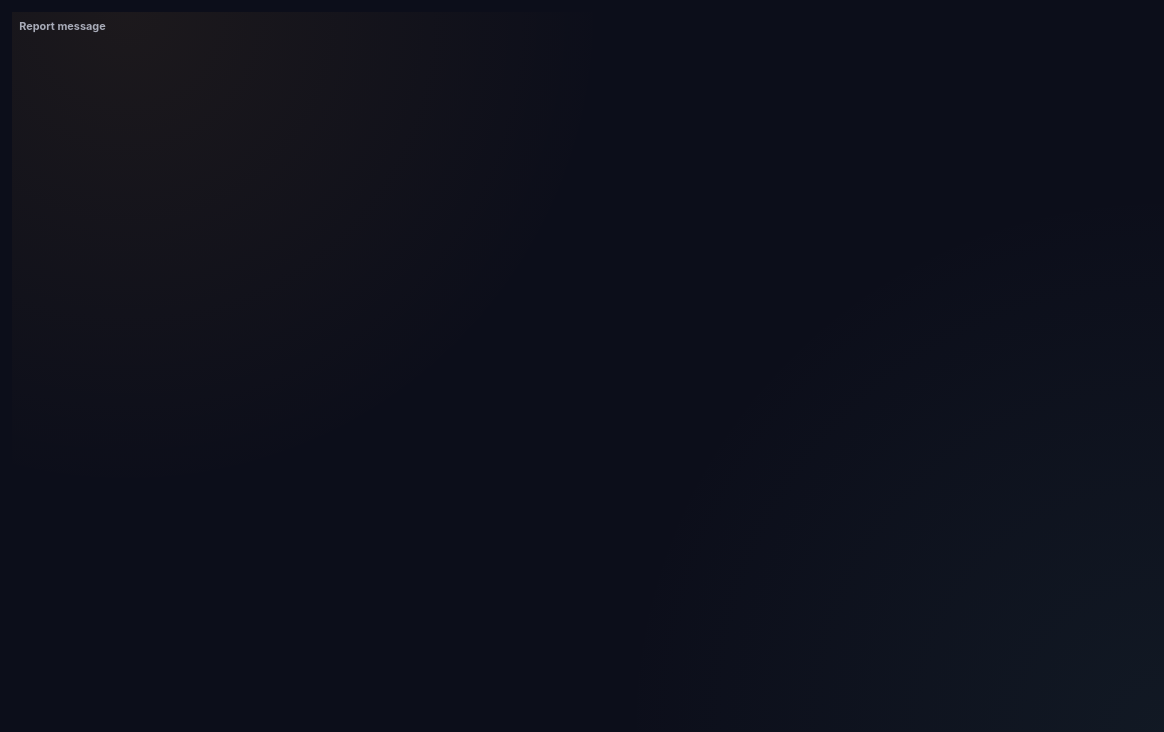
Test: MessageReportAction › reuses moderation report reasons and submits trimmed details
Click the button "Report message" at (62, 27), box [12, 12, 113, 41]
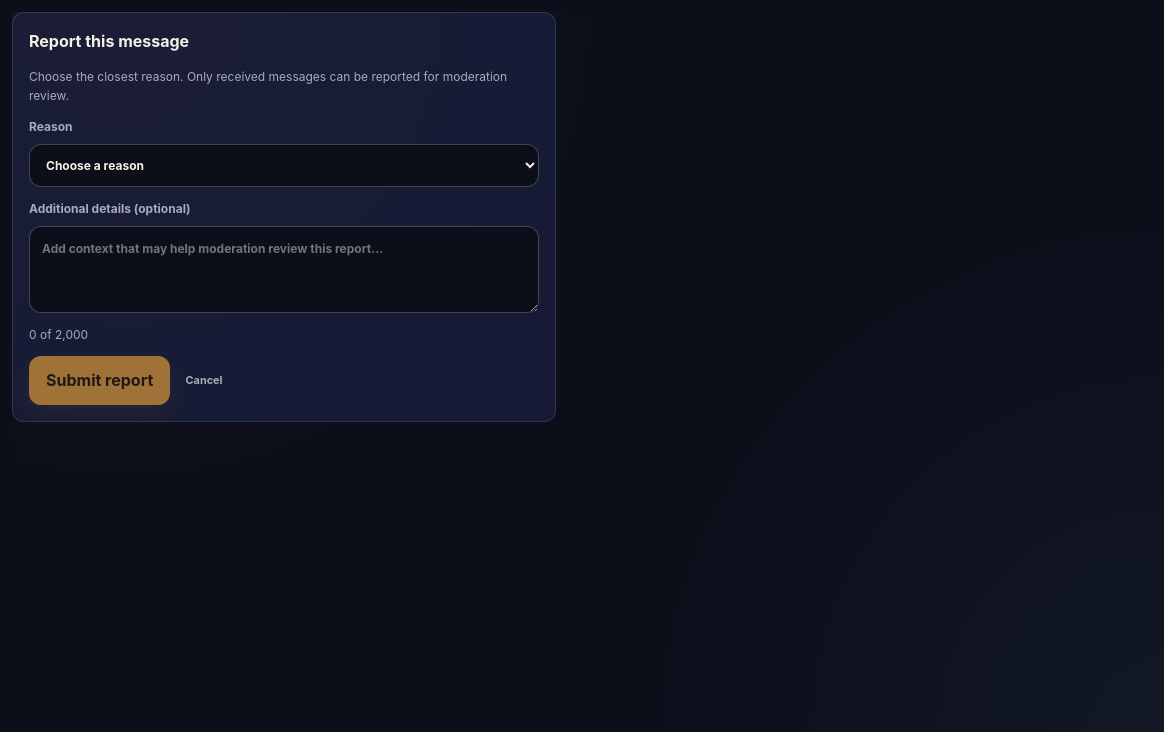
Select "Harassment" in the dropdown labelled "Reason" at (284, 165), box [29, 144, 539, 187]
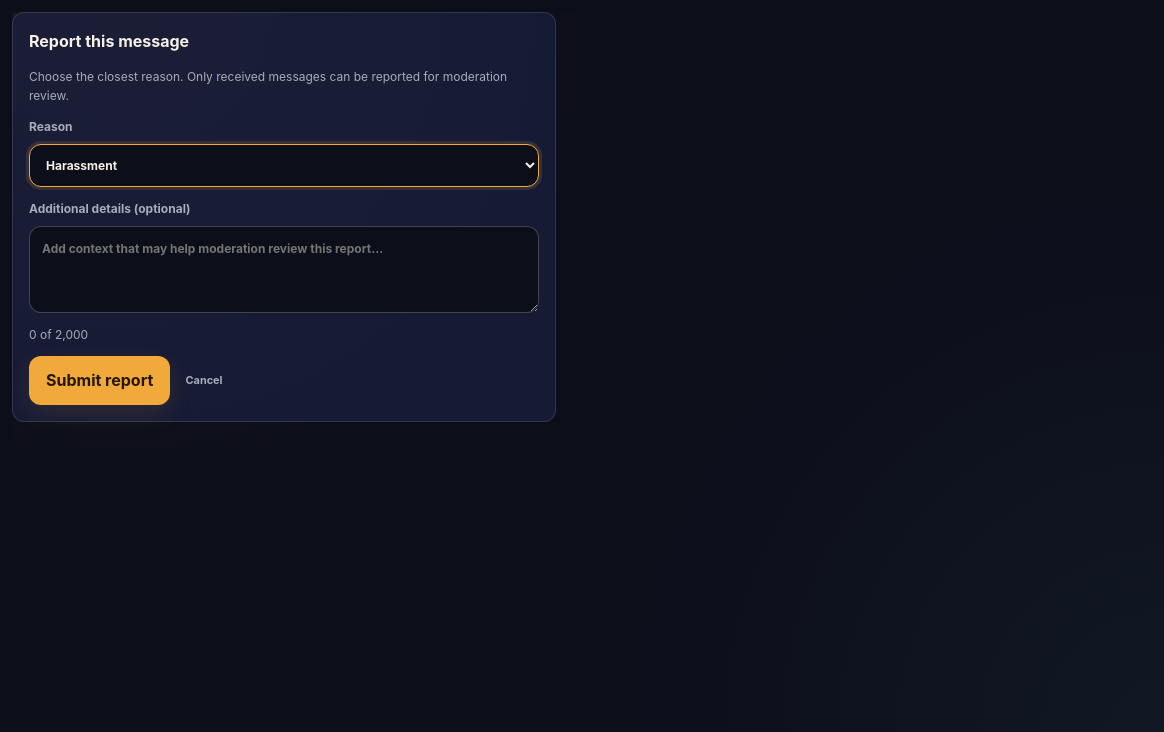
Type "  Please review this.  " into the text box labelled "Additional details (optional)" at (284, 269), box [29, 226, 539, 313]
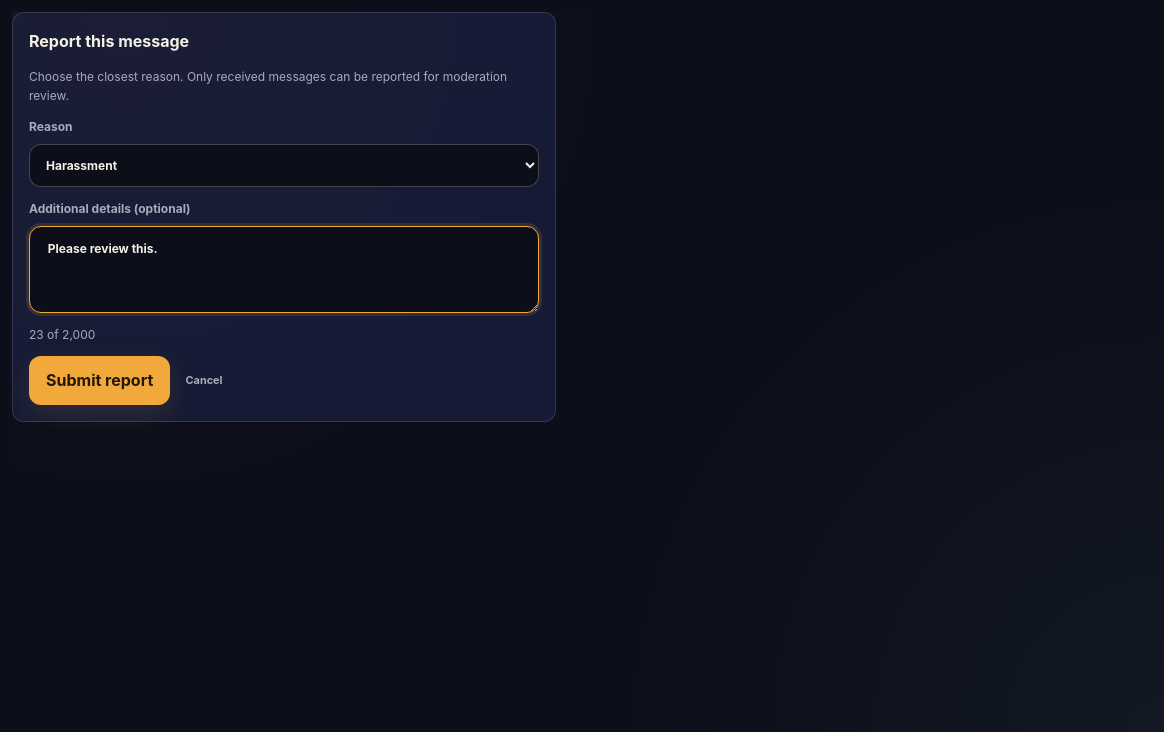
Click the button "Submit report" at (100, 381), box [29, 356, 170, 405]
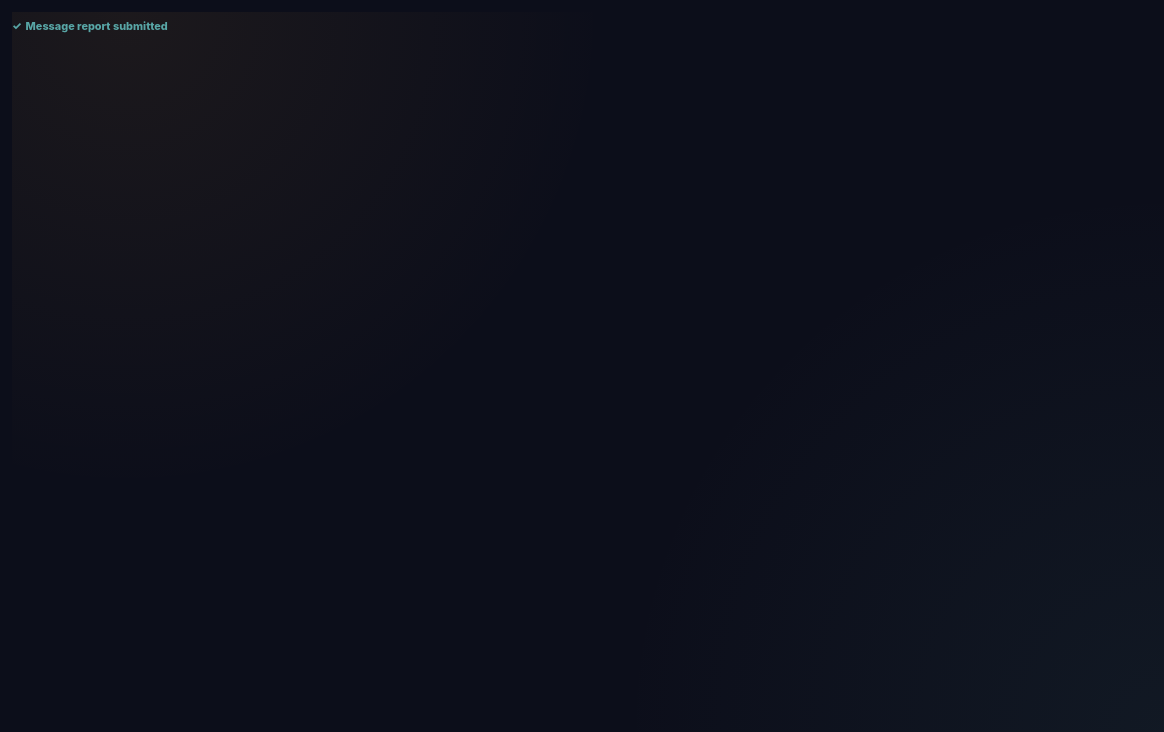
Check: the text "Message report submitted" is shown, box [26, 19, 168, 33]
